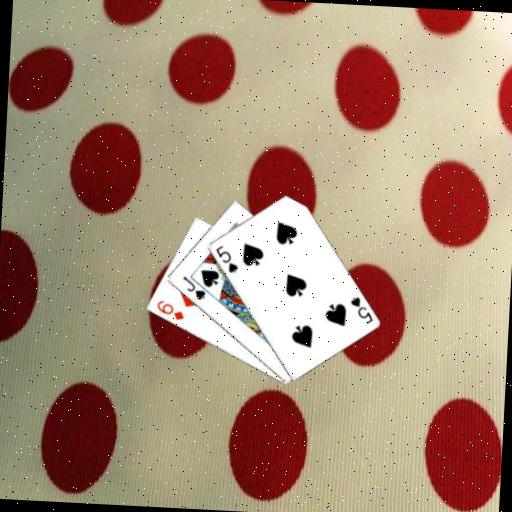5S: (212, 242, 241, 275), (346, 293, 375, 326)
6D: (153, 297, 186, 322)
JS: (179, 273, 209, 302)
